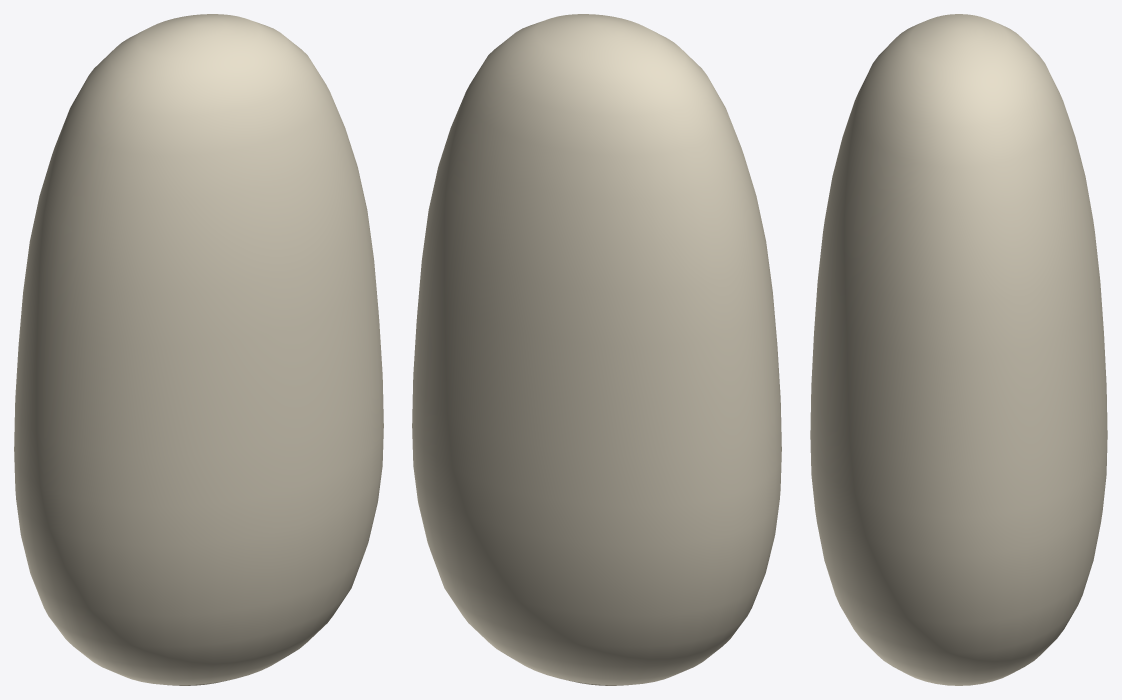
File: player-seed.glb
3 views of the same model, side by side, from view 1: azimuth 30°, elevation 25°; view 2: azimuth 150°, elevation 25°; view 3: azimuth 270°, elevation 25° (orthographic).
Visible parts, largest first — view 1: player-seed; view 2: player-seed; view 3: player-seed.
Part boxes in pixels (left/top/right/bottom): player-seed: left=14, top=14, right=383, bottom=685; player-seed: left=412, top=14, right=781, bottom=685; player-seed: left=810, top=14, right=1107, bottom=685.
Bounding box in the file's own units: 0.75 × 1.38 × 0.58.
